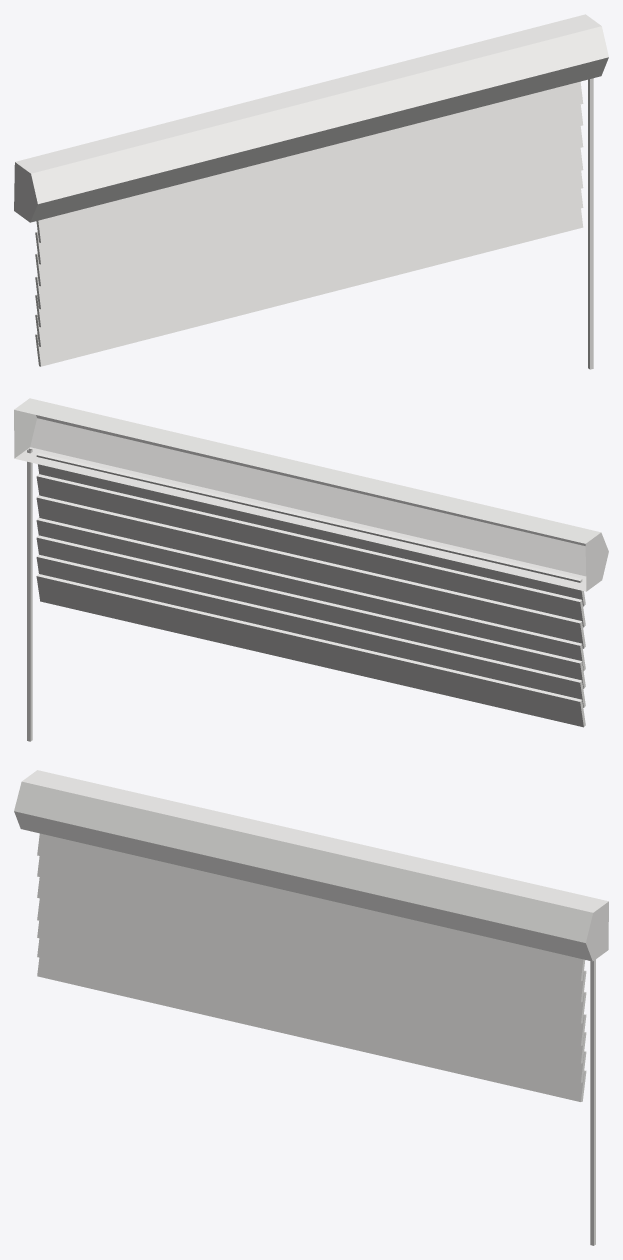
File: Blinds_1.fbx
3 renders of one model, top to bottom at view 1: azimuth 30°, elevation 25°; view 2: azimuth 150°, elevation 25°; view 3: azimuth 330°, elevation 25°, orthographic. The views are drawn at different scales.
Parts seen in each view (by area): view 1: Blinds_1; view 2: Blinds_1; view 3: Blinds_1.
Part boxes in pixels (x1,y1,x2,y2): Blinds_1: [14, 14, 608, 369]; Blinds_1: [14, 398, 608, 741]; Blinds_1: [14, 770, 608, 1245].
Size of the model in its own units: 199 by 18.22 by 113.
